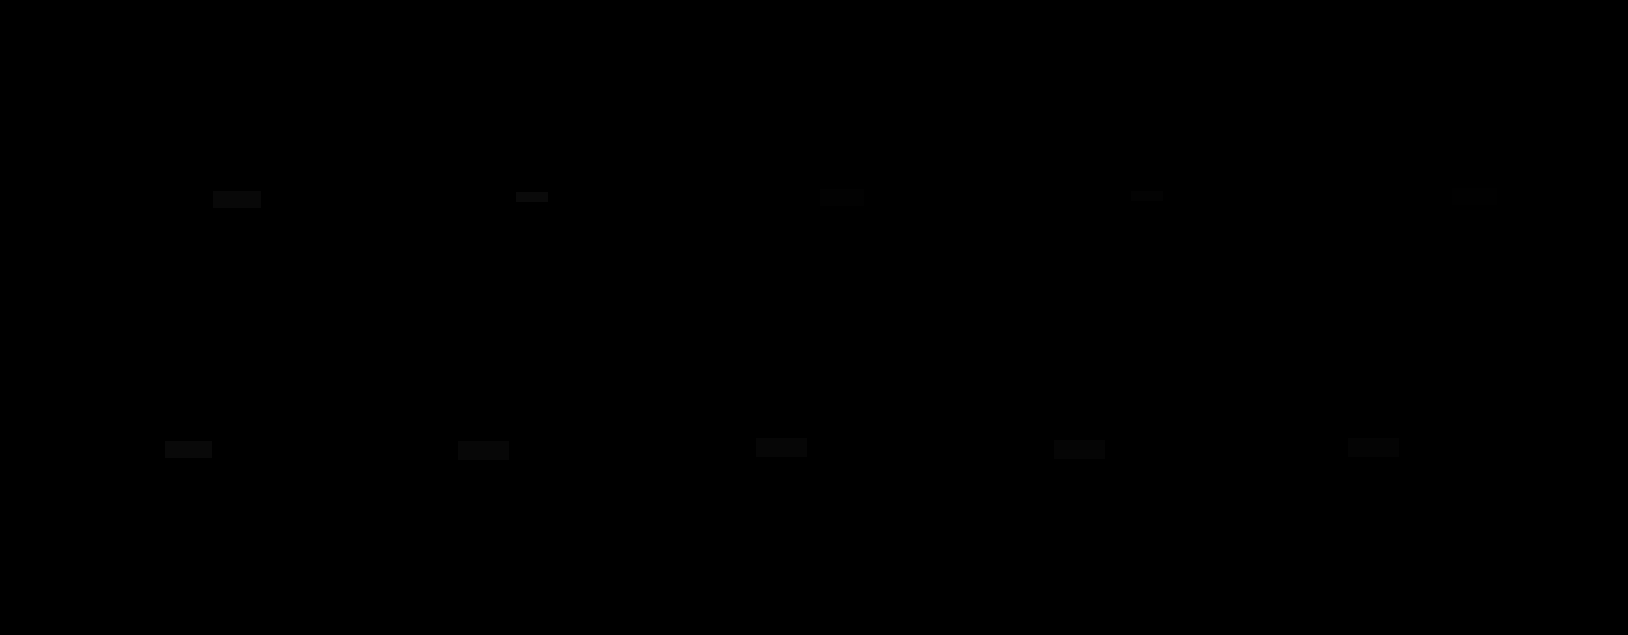light: (1348, 438, 1399, 457), (1054, 440, 1105, 459), (756, 438, 807, 457), (458, 441, 509, 460), (1451, 188, 1497, 205), (213, 191, 261, 208), (165, 441, 212, 458), (820, 189, 864, 206), (1131, 191, 1163, 201), (516, 192, 548, 202)
